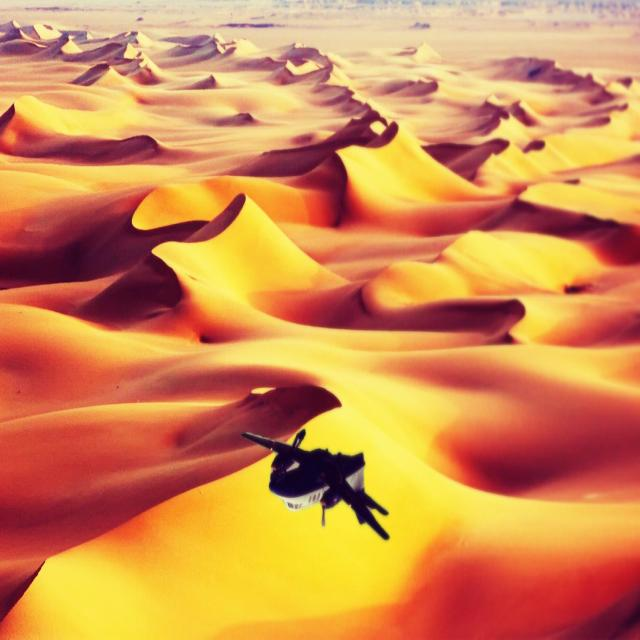airplane: (240, 425, 390, 540)
